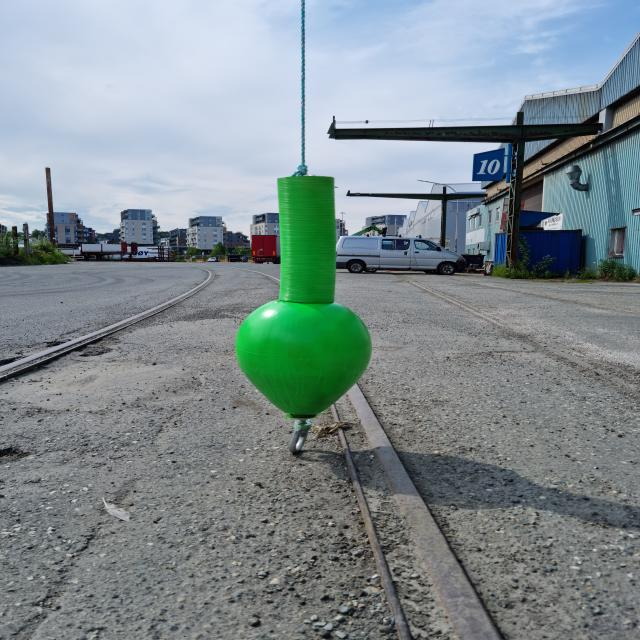green: (233, 177, 374, 417)
